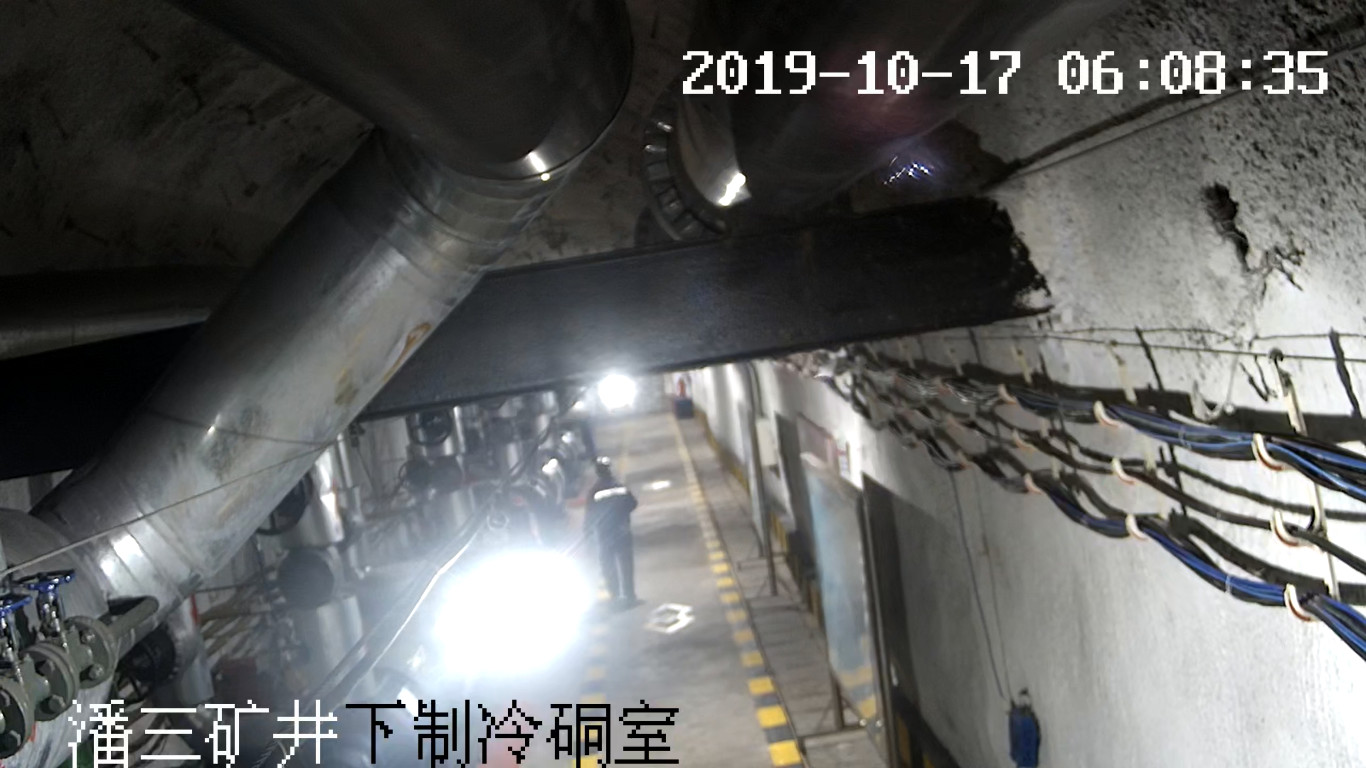helmet: (594, 454, 612, 470)
